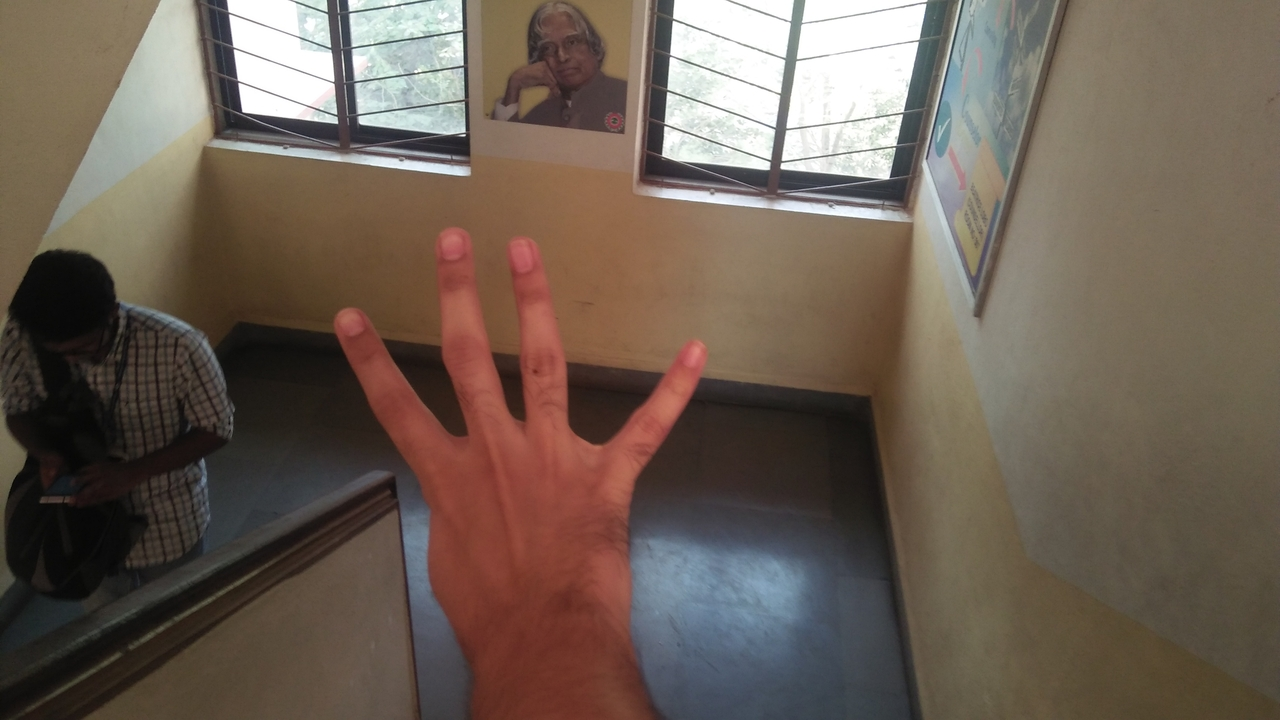fingertip: (660, 328, 720, 380), (320, 298, 378, 350), (494, 224, 550, 276), (424, 216, 478, 264)
